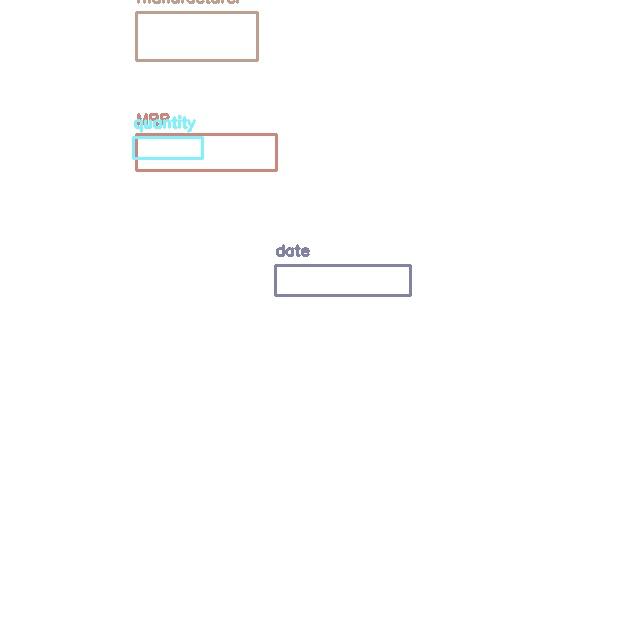MRP: (136, 134, 276, 170)
date: (275, 265, 410, 295)
manufacturer: (136, 12, 257, 60)
quantity: (133, 137, 202, 158)
